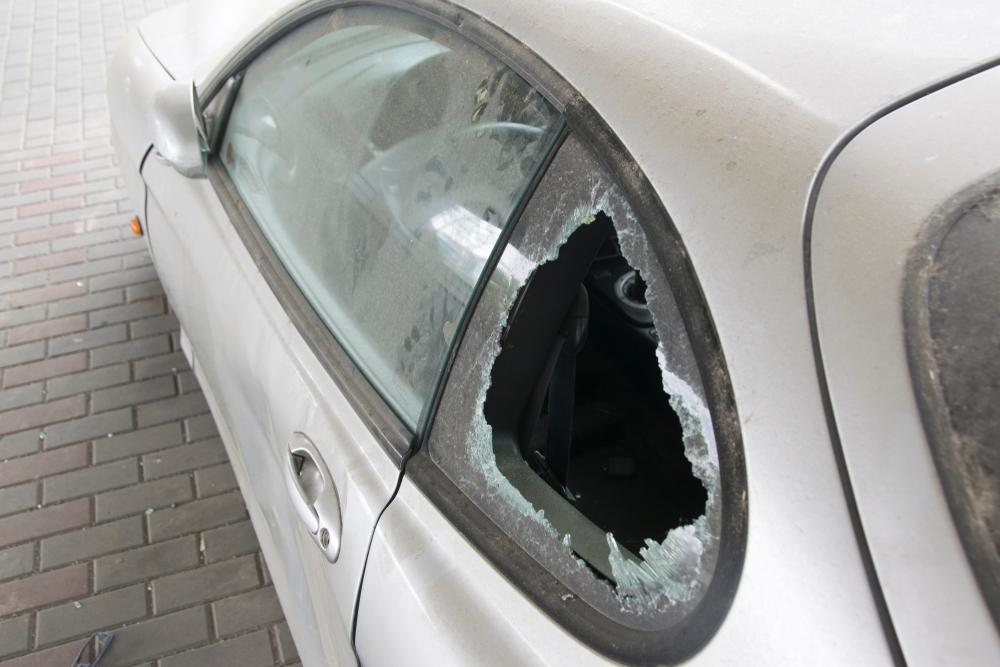glass shatter: (430, 133, 723, 632)
